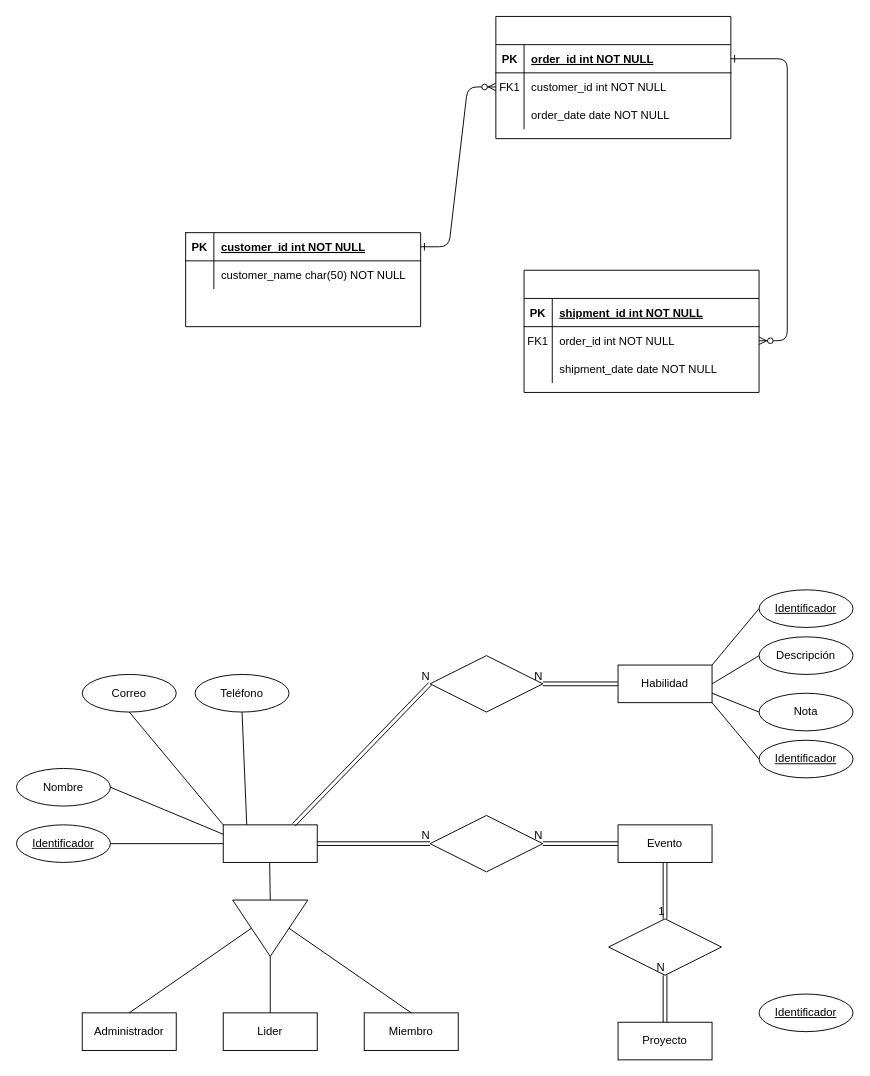
Some shapes in this 870 by 1076 pixel diagram are drawn without their labels. Each missing label, with the box of its shape:
Customers: (185, 232, 421, 327)
Esta: (608, 918, 721, 975)
Orders: (495, 16, 731, 139)
Pertenece: (429, 815, 543, 872)
Shipments: (523, 269, 759, 392)
Tiene: (429, 655, 543, 712)
Usuario: (222, 824, 317, 862)
